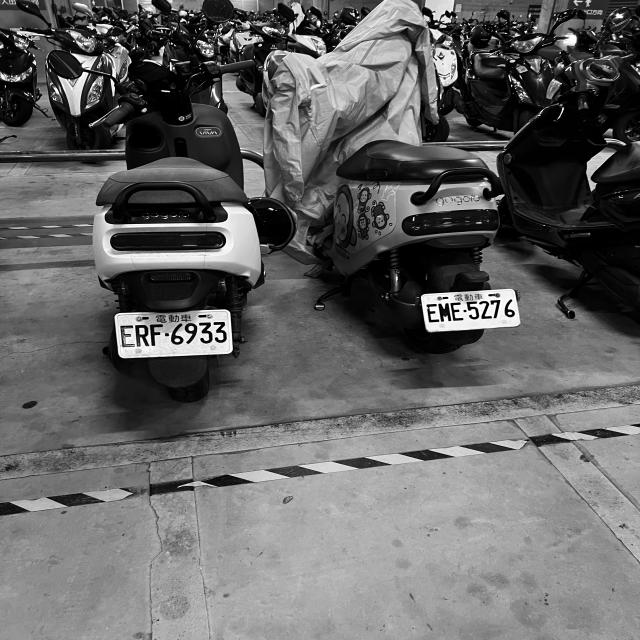-: (163, 332, 170, 337), (463, 309, 467, 313)
2: (480, 300, 491, 320)
3: (198, 321, 214, 344), (213, 321, 228, 344)
5: (466, 300, 480, 320)
6: (171, 322, 184, 345), (503, 298, 516, 318)
7: (491, 299, 502, 319)
9: (184, 322, 198, 344)
E: (120, 324, 135, 347), (450, 301, 465, 321), (426, 303, 440, 323)
F: (150, 324, 164, 346)
M: (438, 302, 452, 322)
R: (134, 323, 150, 347)
plate: (115, 312, 234, 356), (423, 292, 521, 328)
